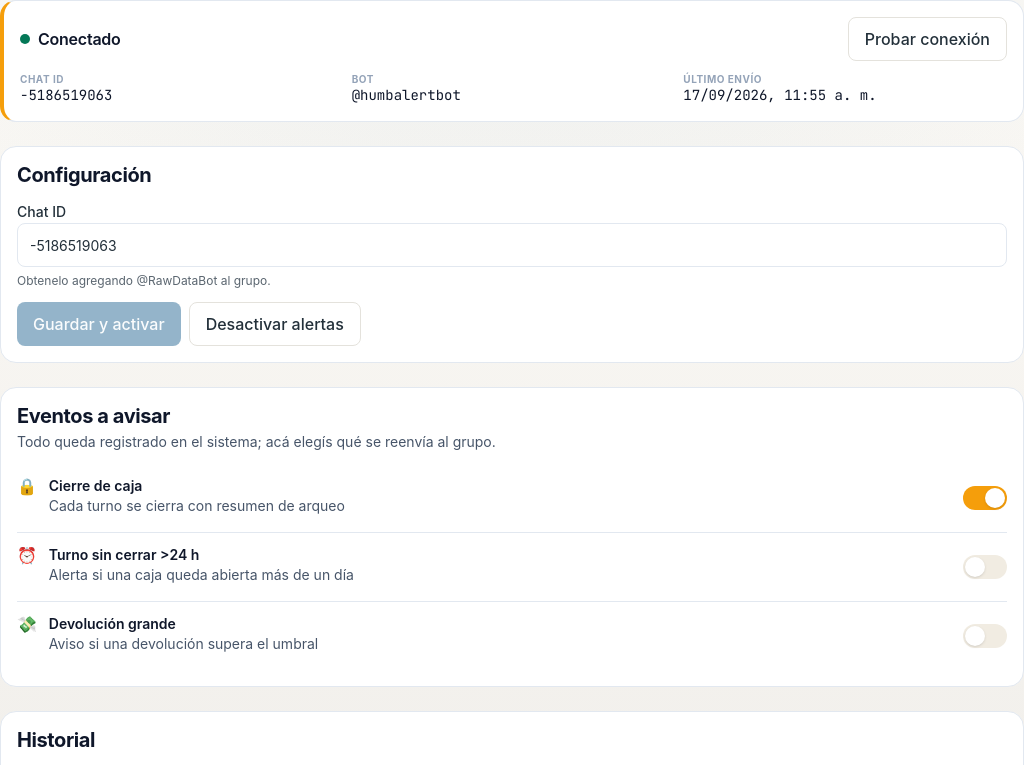
Test: NotificationsClient › el umbral de devoluciones solo aparece si ese aviso está prendido
The width and height of the screenshot is (1024, 765).
Expected: the field labelled "Devolución mayor a" is not shown
Click the switch named "Avisar: Devolución grande" at (985, 636), box 963,614 -> 1007,658
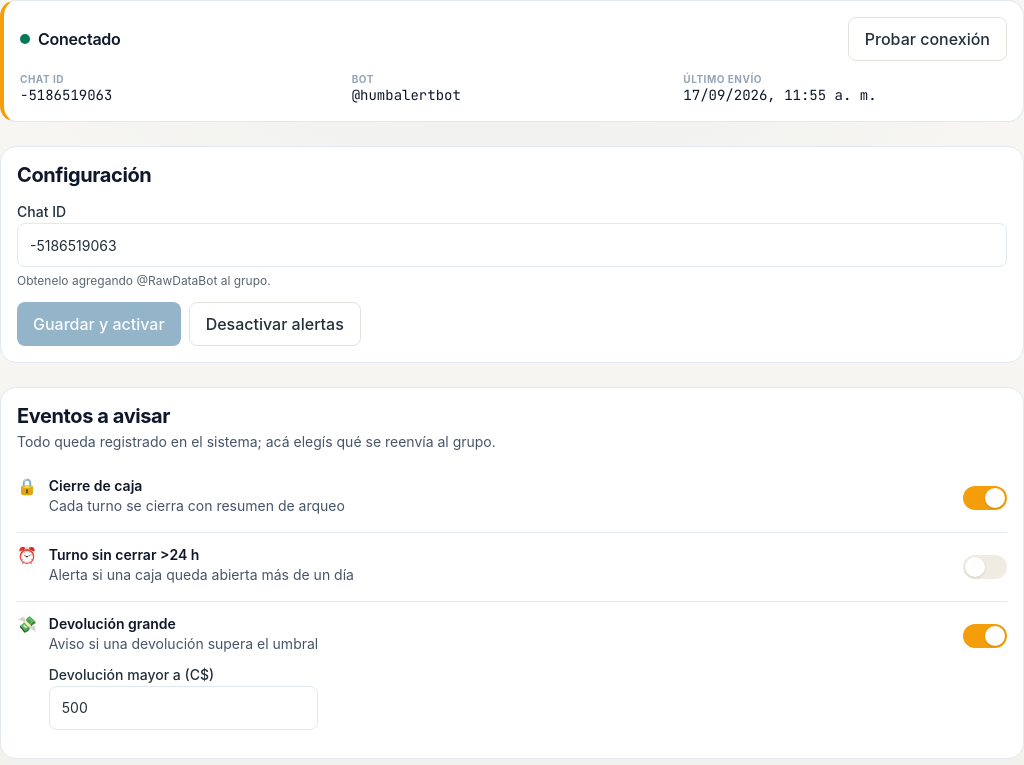
Result: the field labelled "Devolución mayor a (C$)" is shown at 49,686 -> 318,730
